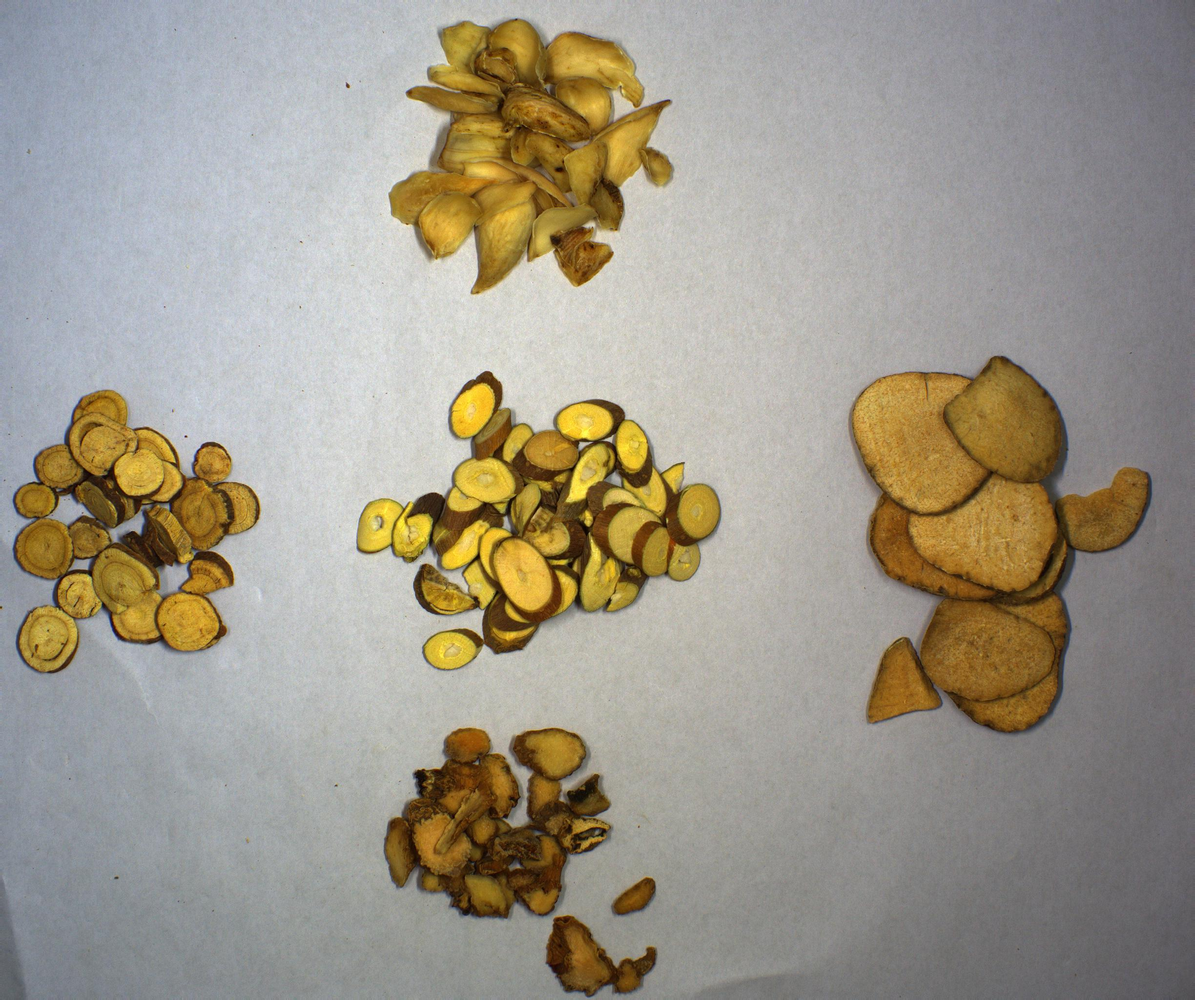baihe: (378, 16, 693, 312)
gancao: (6, 386, 265, 683)
sangzhi: (342, 370, 728, 693)
yuzhu: (363, 723, 710, 997)
zexie: (833, 349, 1159, 758)
